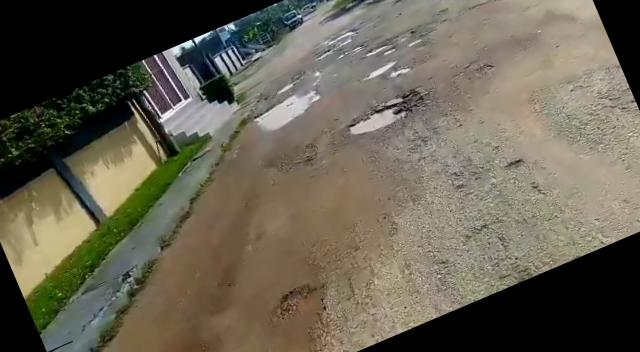pothole: (248, 83, 326, 139), (342, 88, 424, 141), (274, 277, 330, 322), (363, 60, 398, 80), (387, 64, 413, 80)
